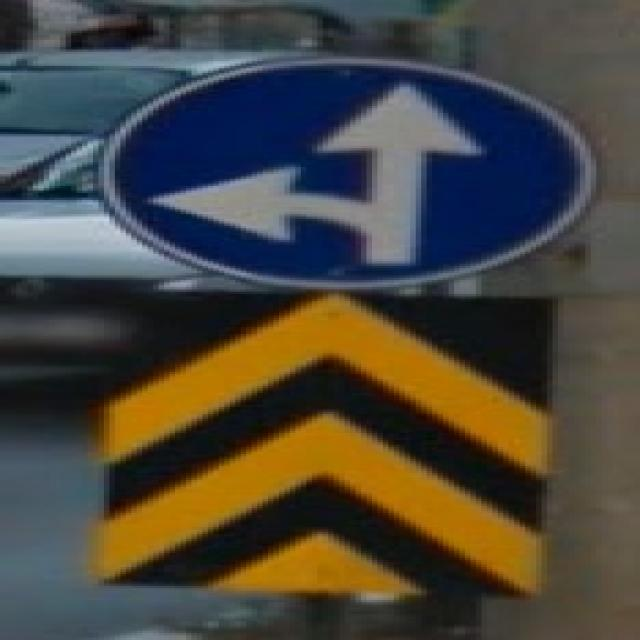Straight or Left: (99, 57, 592, 290)
